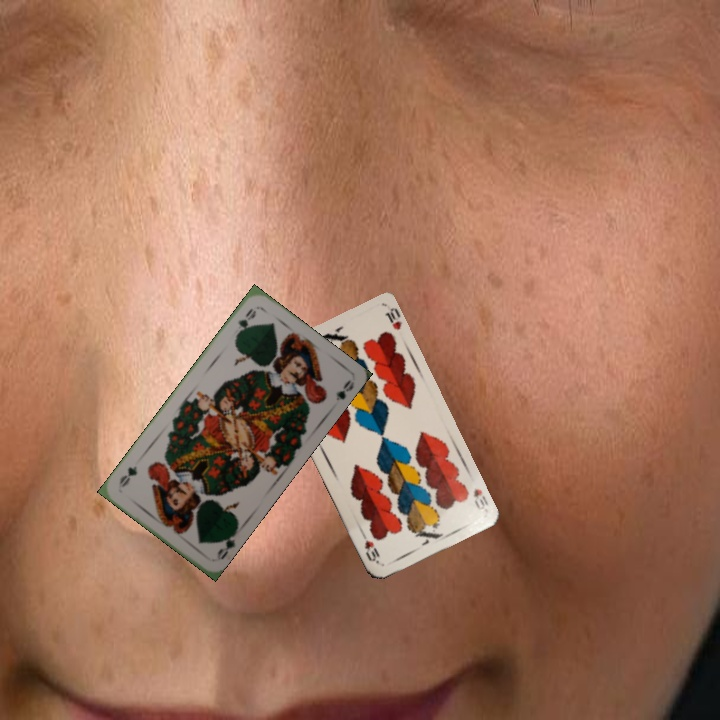GO: (213, 526, 240, 563), (232, 304, 259, 340)
H10: (469, 484, 491, 513)
